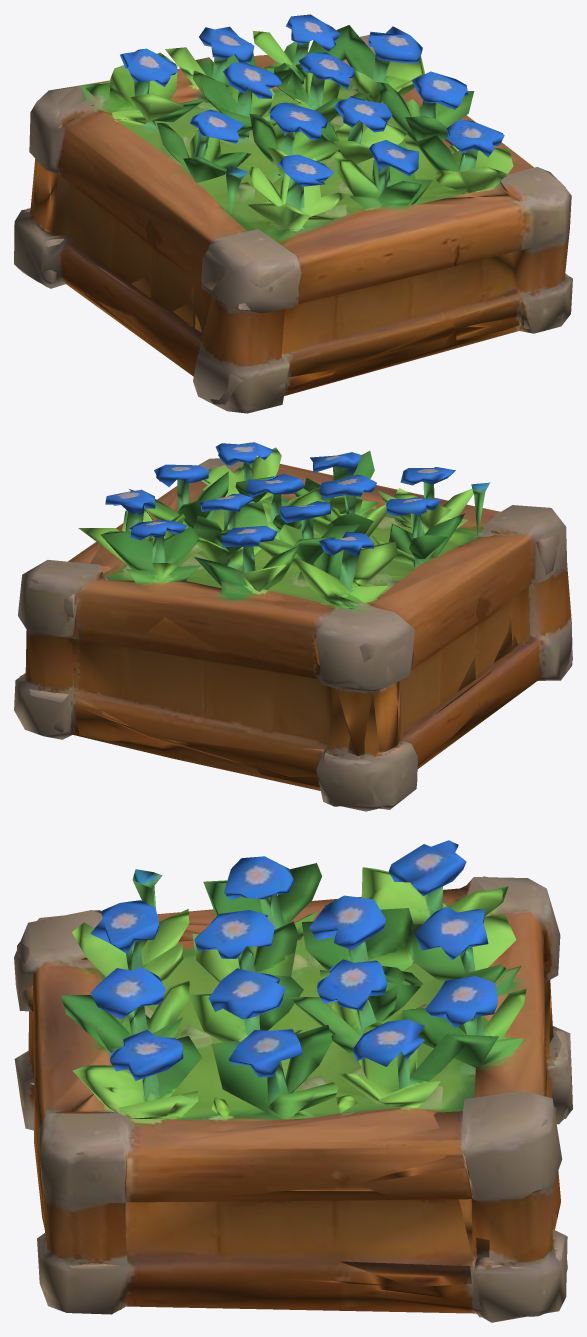
File: flowerbed.glb
3 views of the same model, one above another, from view 1: azimuth 30°, elevation 25°; view 2: azimuth 150°, elevation 25°; view 3: azimuth 270°, elevation 25° (orthographic). The views are drawn at different scales.
Bounding box in the file's own units: 0.95 × 0.5454 × 0.9434.
1 material, 1 textured.
